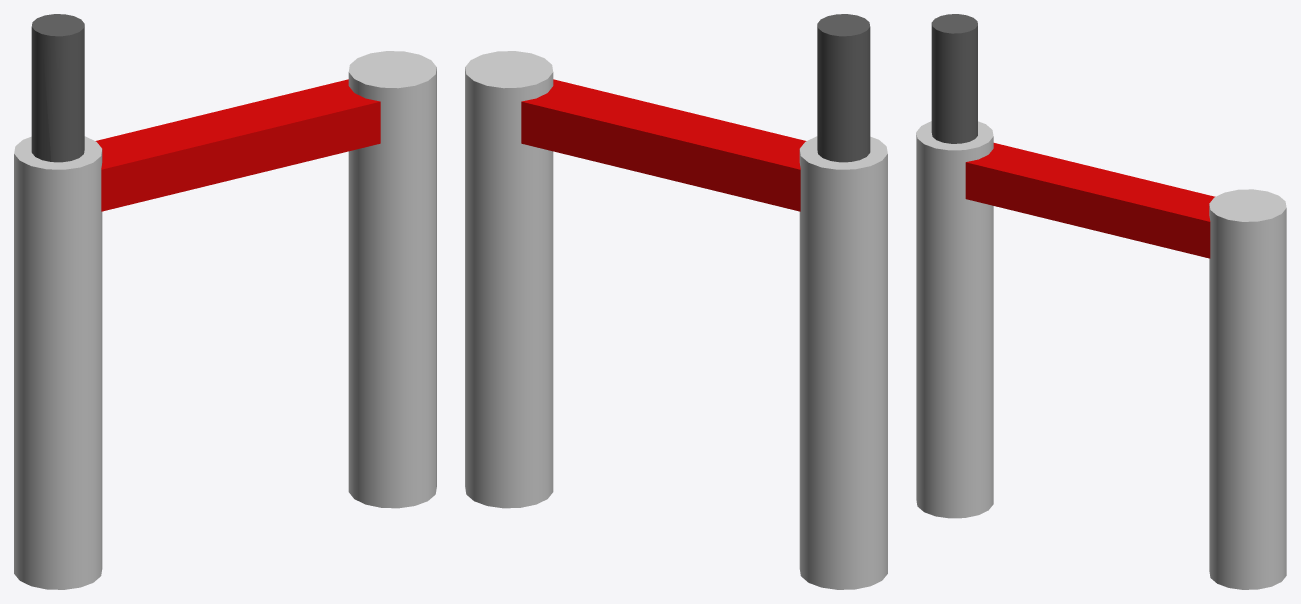
The model's file is posto.fbx_Pilastra.fbx.
The picture shows the model from 3 angles, left to right: view 1: azimuth 30°, elevation 25°; view 2: azimuth 150°, elevation 25°; view 3: azimuth 330°, elevation 25°; orthographic projection. The views are drawn at different scales.
Parts seen in each view (by area): view 1: Pilastras; view 2: Pilastras; view 3: Pilastras.
Part boxes in pixels (<box>): Pilastras: <box>14,14,436,589</box>; Pilastras: <box>465,14,887,589</box>; Pilastras: <box>916,14,1286,589</box>.
Size of the model in its own units: 615 by 780 by 115.
